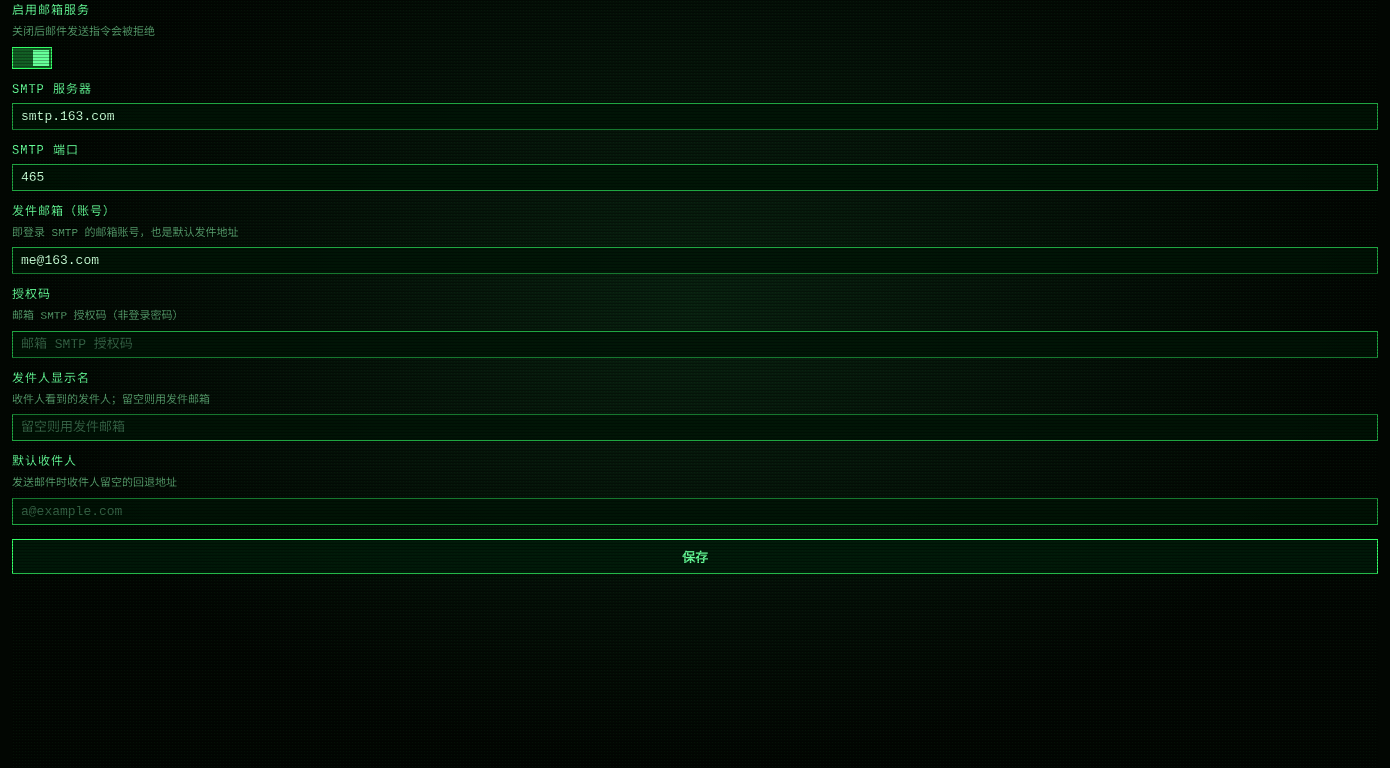
EmailConfigForm › 保存：组补丁调 saveEmailConfig；授权码留空时补丁不含 smtp_password
This screenshot has width=1390, height=768.
Type "x@163.com" into the field with test id "email-config-sender" at (695, 428), box [12, 414, 1378, 441]
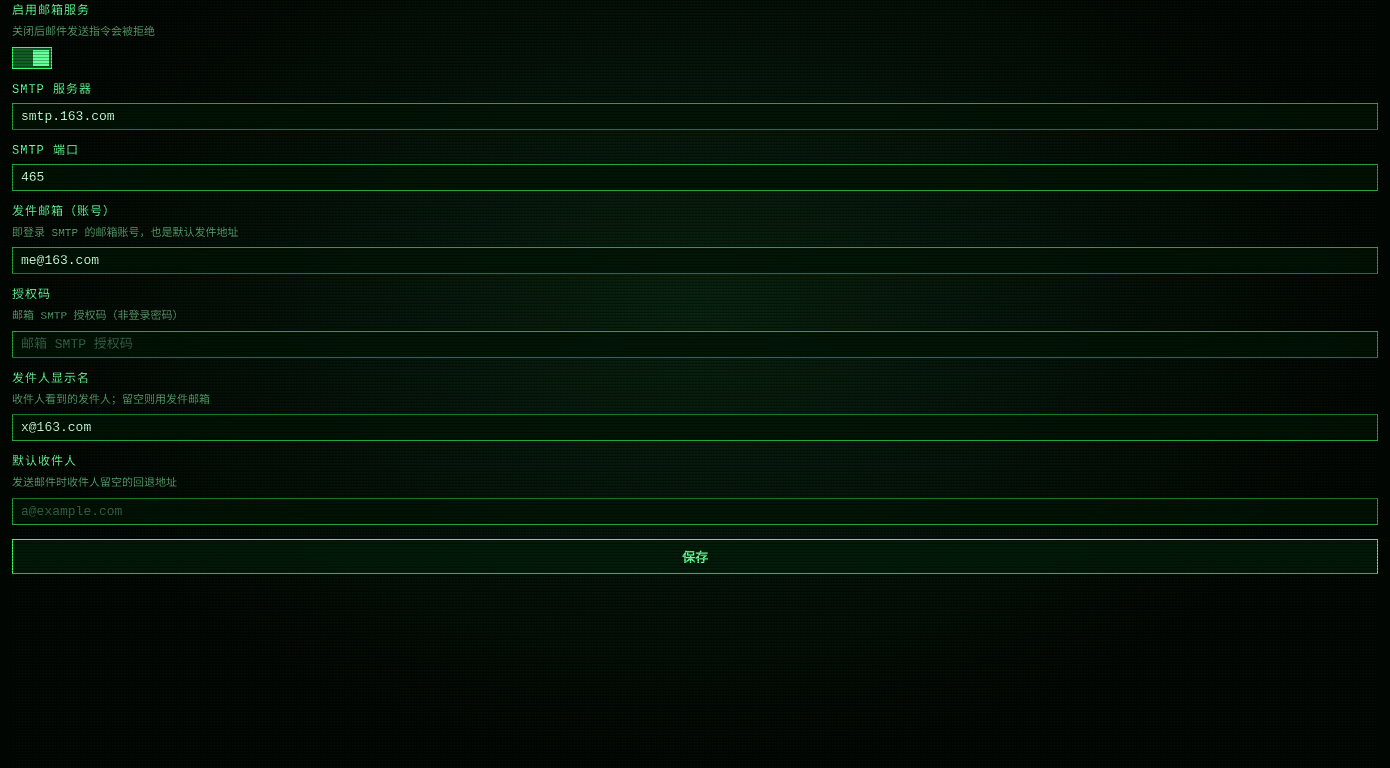
Click the button with test id "email-config-save" at (695, 556), box [12, 538, 1378, 574]
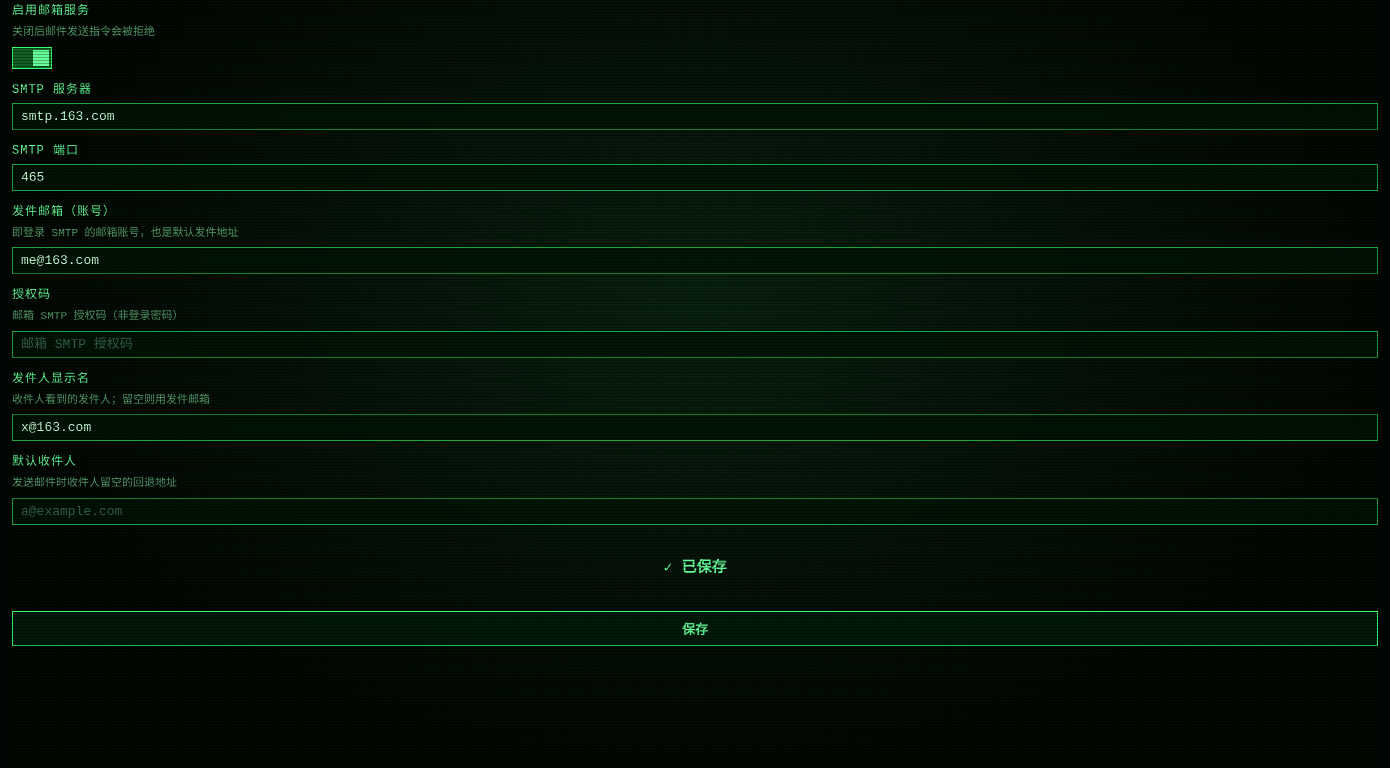
Now the text "✓ 已保存" is shown, box [664, 560, 726, 576]
